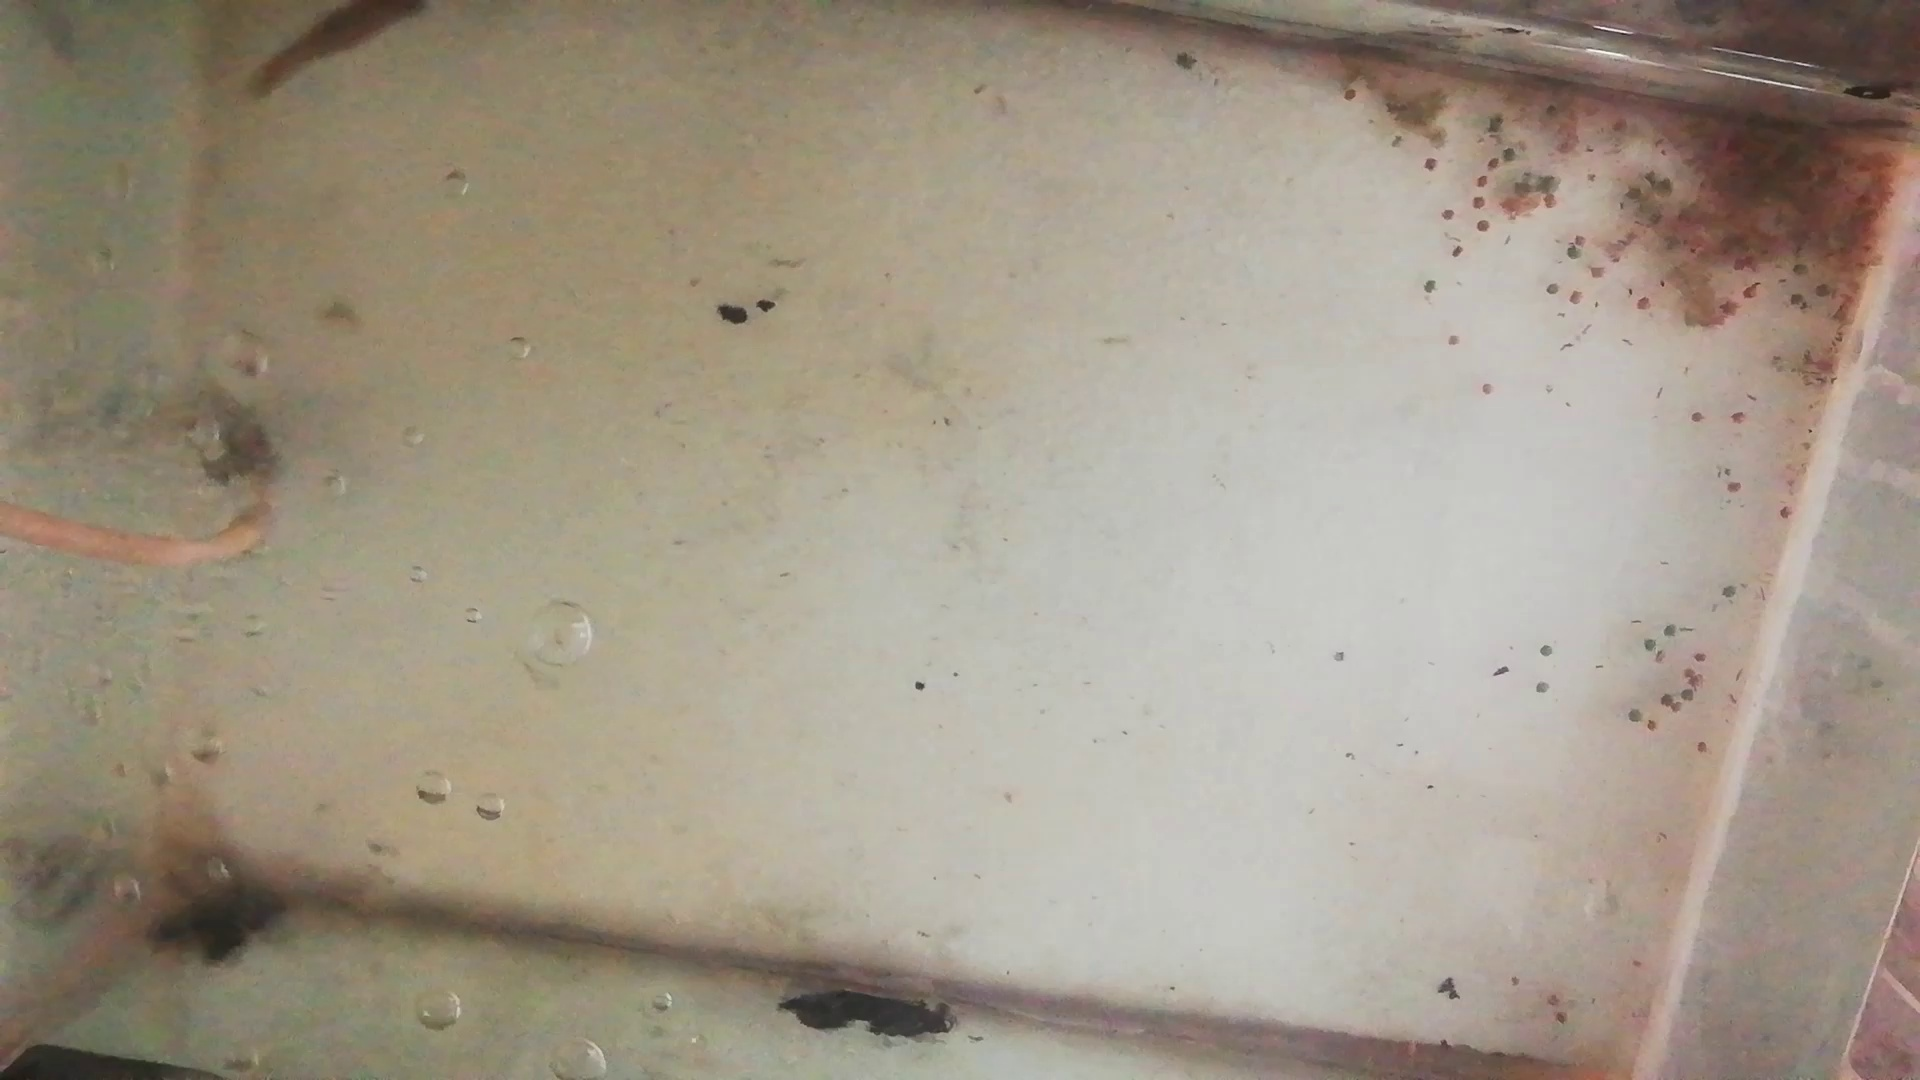fish: (236, 3, 460, 88)
